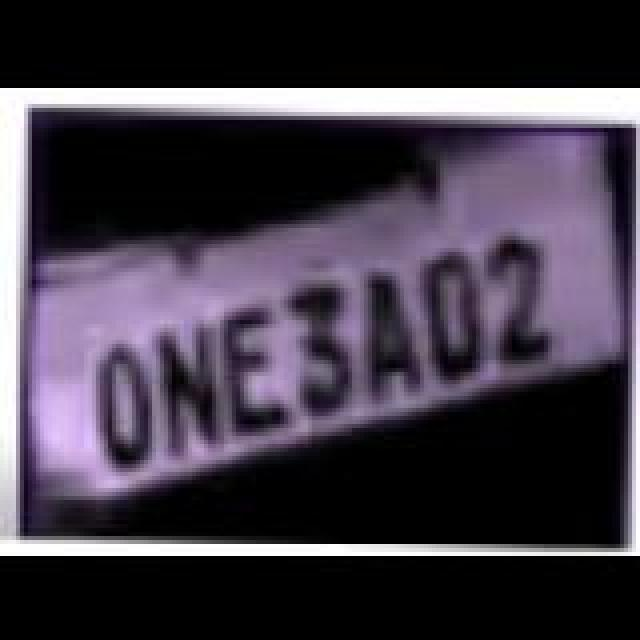2: (472, 228, 560, 364)
3: (280, 278, 368, 418)
A: (350, 264, 434, 400)
D: (414, 248, 498, 384)
E: (212, 298, 300, 438)
N: (146, 318, 230, 458)
O: (84, 336, 164, 472)
